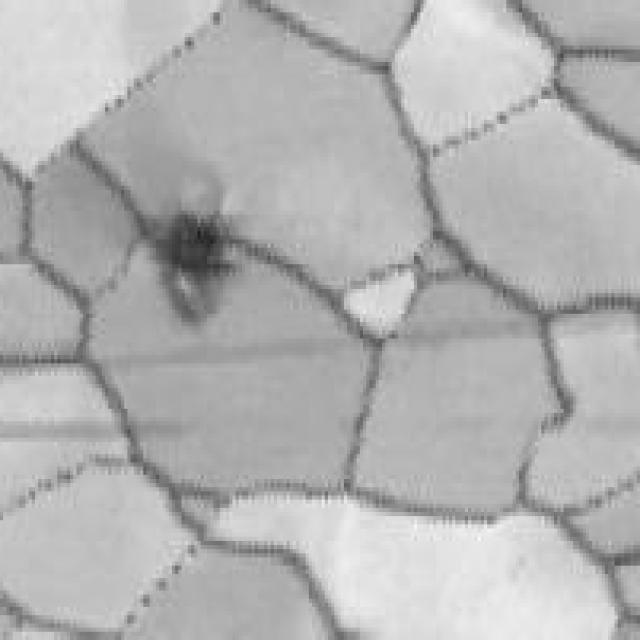good_void: (164, 207, 233, 330)
